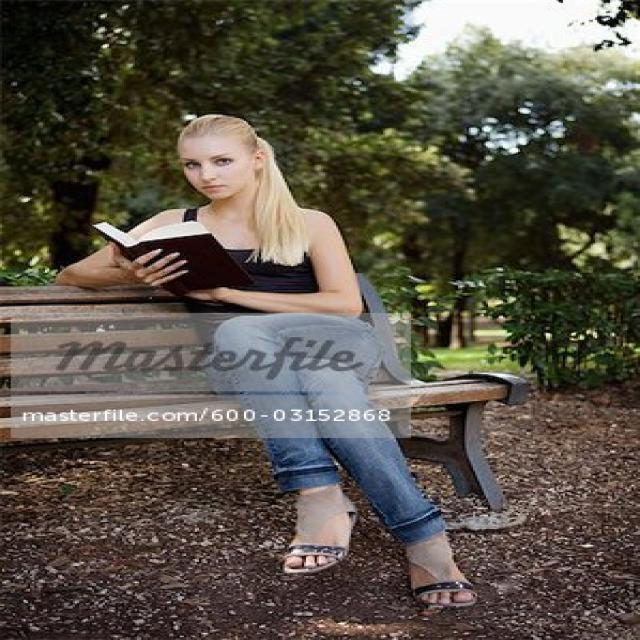sitting: (39, 103, 487, 618)
